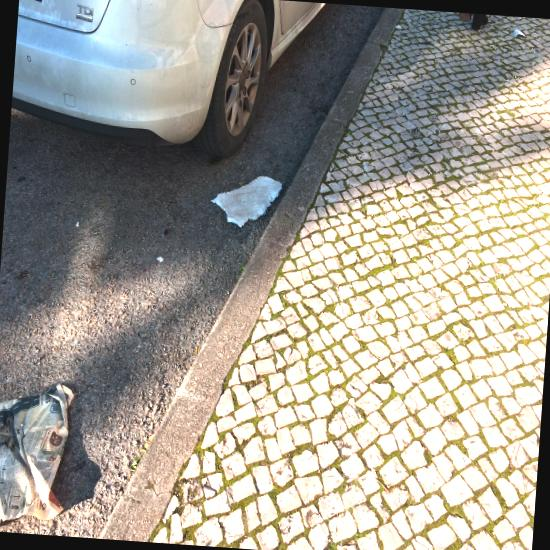Normal paper: (0, 383, 73, 522)
Styrofoam piece: (210, 176, 282, 227), (156, 256, 163, 261)
Unlabeled litter: (513, 29, 526, 38)
